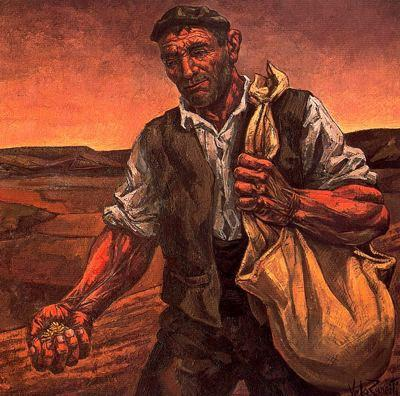person: (23, 2, 399, 396)
